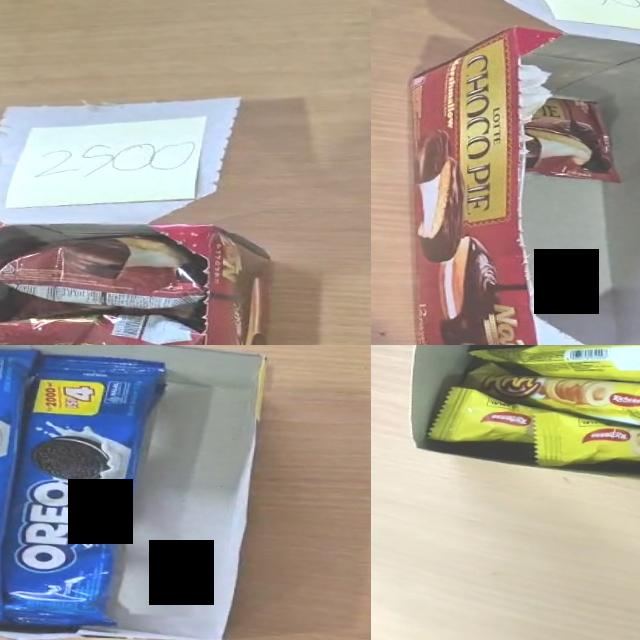Ahh: (458, 359, 640, 436), (426, 385, 555, 446), (467, 345, 640, 385), (530, 410, 640, 472)
Chocopie: (0, 230, 210, 310), (0, 302, 209, 345), (522, 96, 622, 184)
Oreo: (0, 351, 168, 630), (0, 345, 38, 622)
